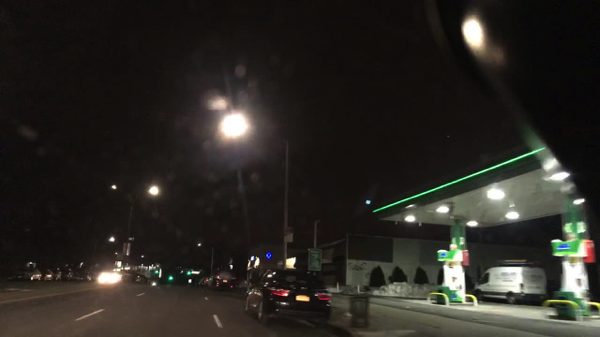car: (245, 268, 331, 330), (8, 265, 43, 283), (209, 269, 236, 290), (99, 271, 122, 284), (41, 267, 55, 282), (63, 268, 77, 282), (82, 269, 96, 282), (53, 268, 65, 281), (132, 274, 146, 285), (74, 270, 85, 282), (198, 276, 209, 286)
traffic light: (154, 265, 161, 277), (168, 271, 174, 283), (187, 268, 191, 277)
traffic sign: (308, 249, 322, 272), (283, 225, 295, 244)
truck: (473, 260, 549, 305)
